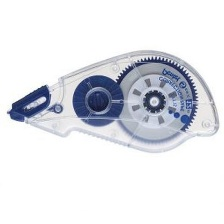correction_fluid: (4, 47, 221, 154)
